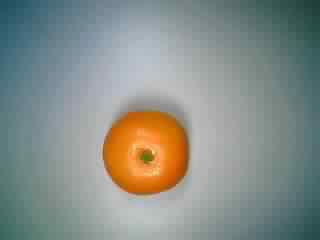orange: (99, 97, 194, 199)
